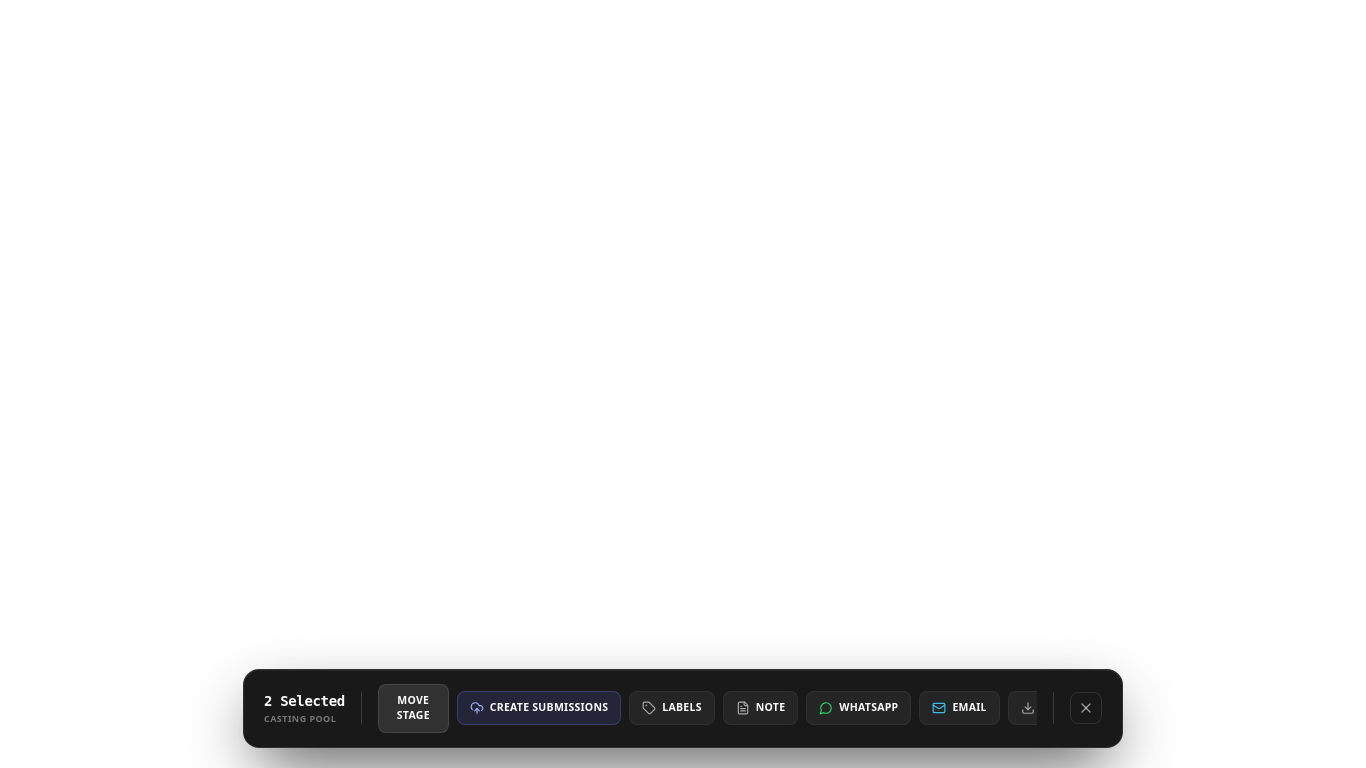
Test: BulkActionBar — Move Stage dropdown visibility › closes the menu on outside click without breaking the portal wiring
Click the button "Move Stage".
click(413, 708)  # box [378,684,449,733]
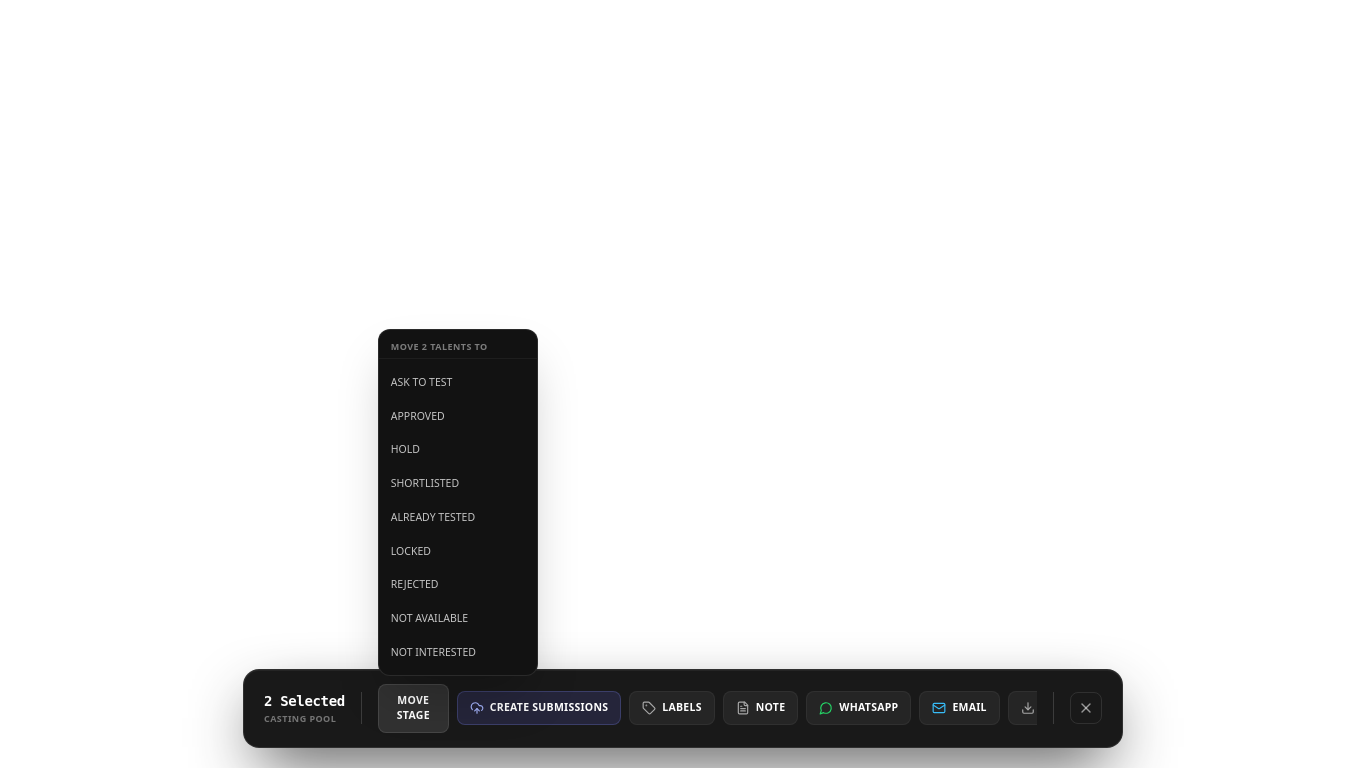
Check: the text "Move 2 talents to" is shown, box [379,336,537,359]
Press the mouse on the element that starts with "Selected" at [683, 384], box [0,0,1365,767]
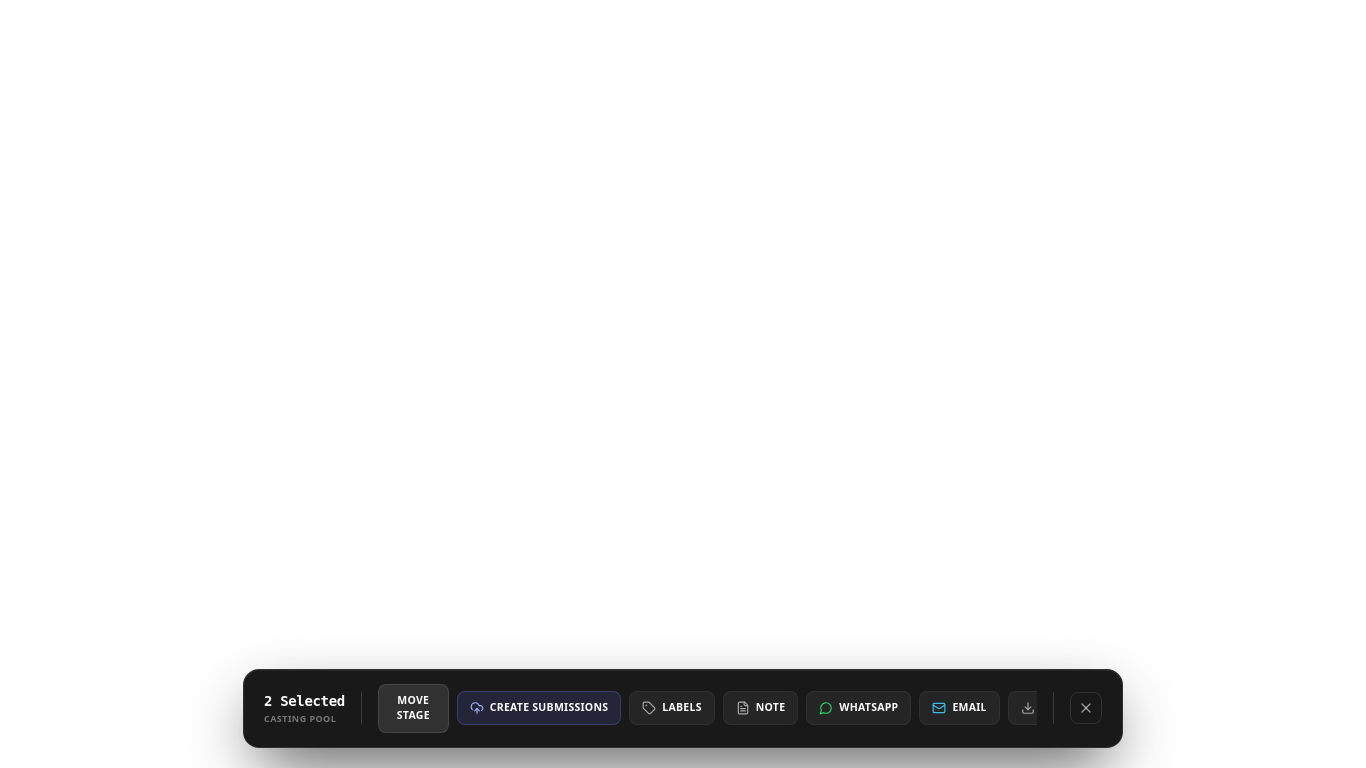
Check: the text "Move 2 talents to" is gone
